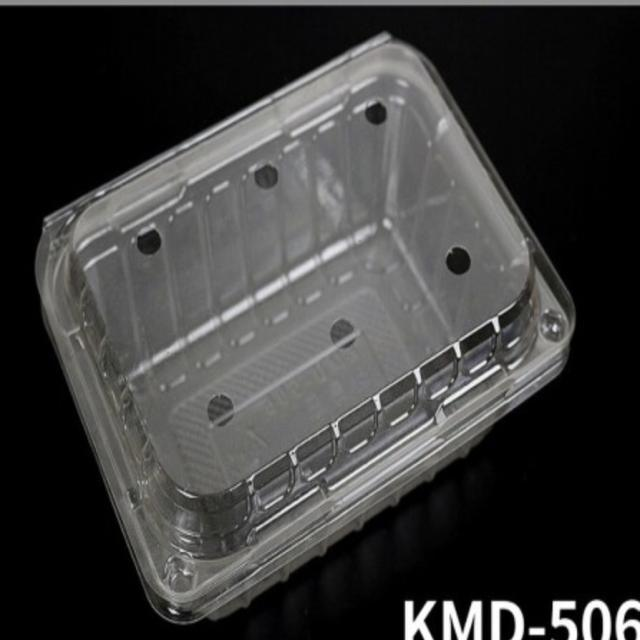recyclable: (36, 30, 586, 620)
